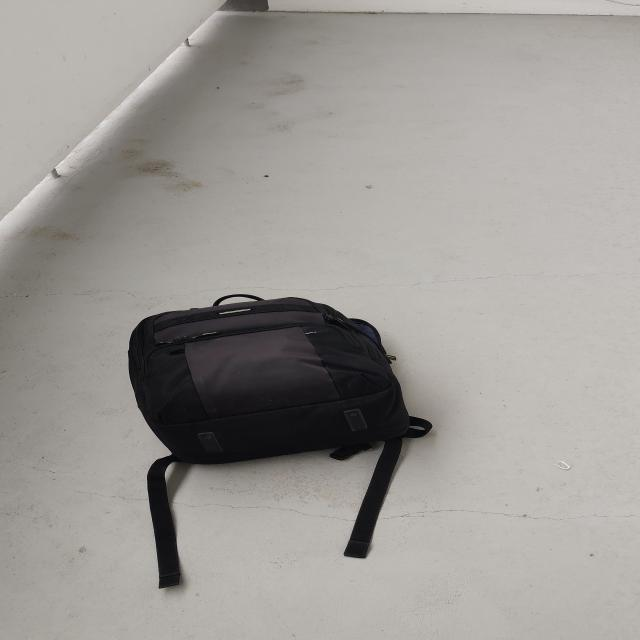backpack: (115, 290, 422, 476)
